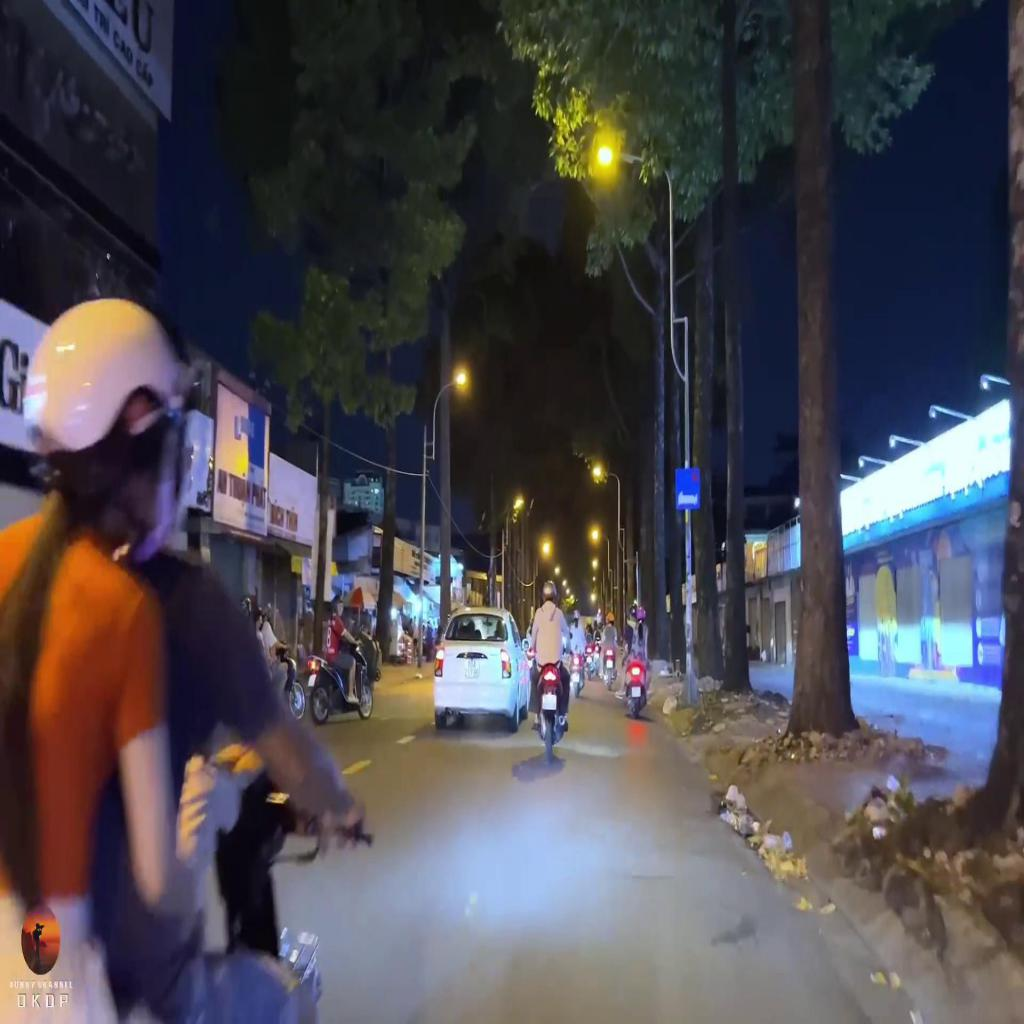khac: (675, 468, 700, 510)
